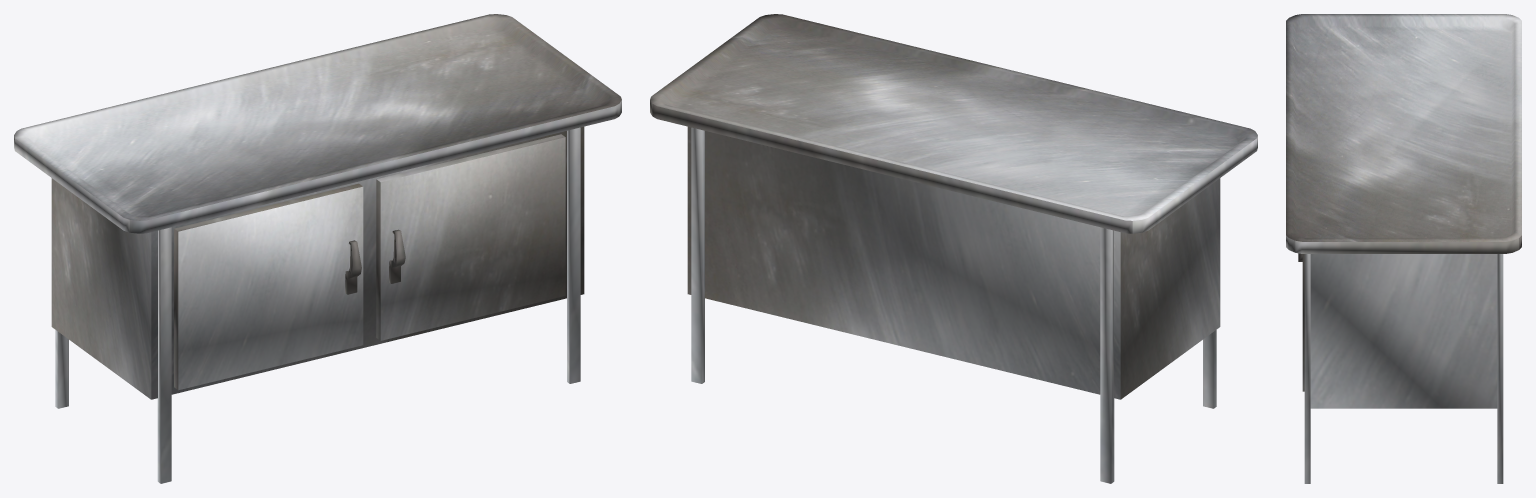
File: KitchenCounterWDoors_Galley.obj
3 views of the same model, side by side, from view 1: azimuth 30°, elevation 25°; view 2: azimuth 150°, elevation 25°; view 3: azimuth 270°, elevation 25° (orthographic). The views are drawn at different scales.
Visible parts, largest first — view 1: KitchenCounterWDoors_Galley.obj; view 2: KitchenCounterWDoors_Galley.obj; view 3: KitchenCounterWDoors_Galley.obj.
Boxes of the visible parts, x1,y1,x2,y2 form: KitchenCounterWDoors_Galley.obj: (14,14,621,483); KitchenCounterWDoors_Galley.obj: (650,14,1257,483); KitchenCounterWDoors_Galley.obj: (1286,14,1521,483).
Bounding box in the file's own units: 4.62 × 2.46 × 2.02.
